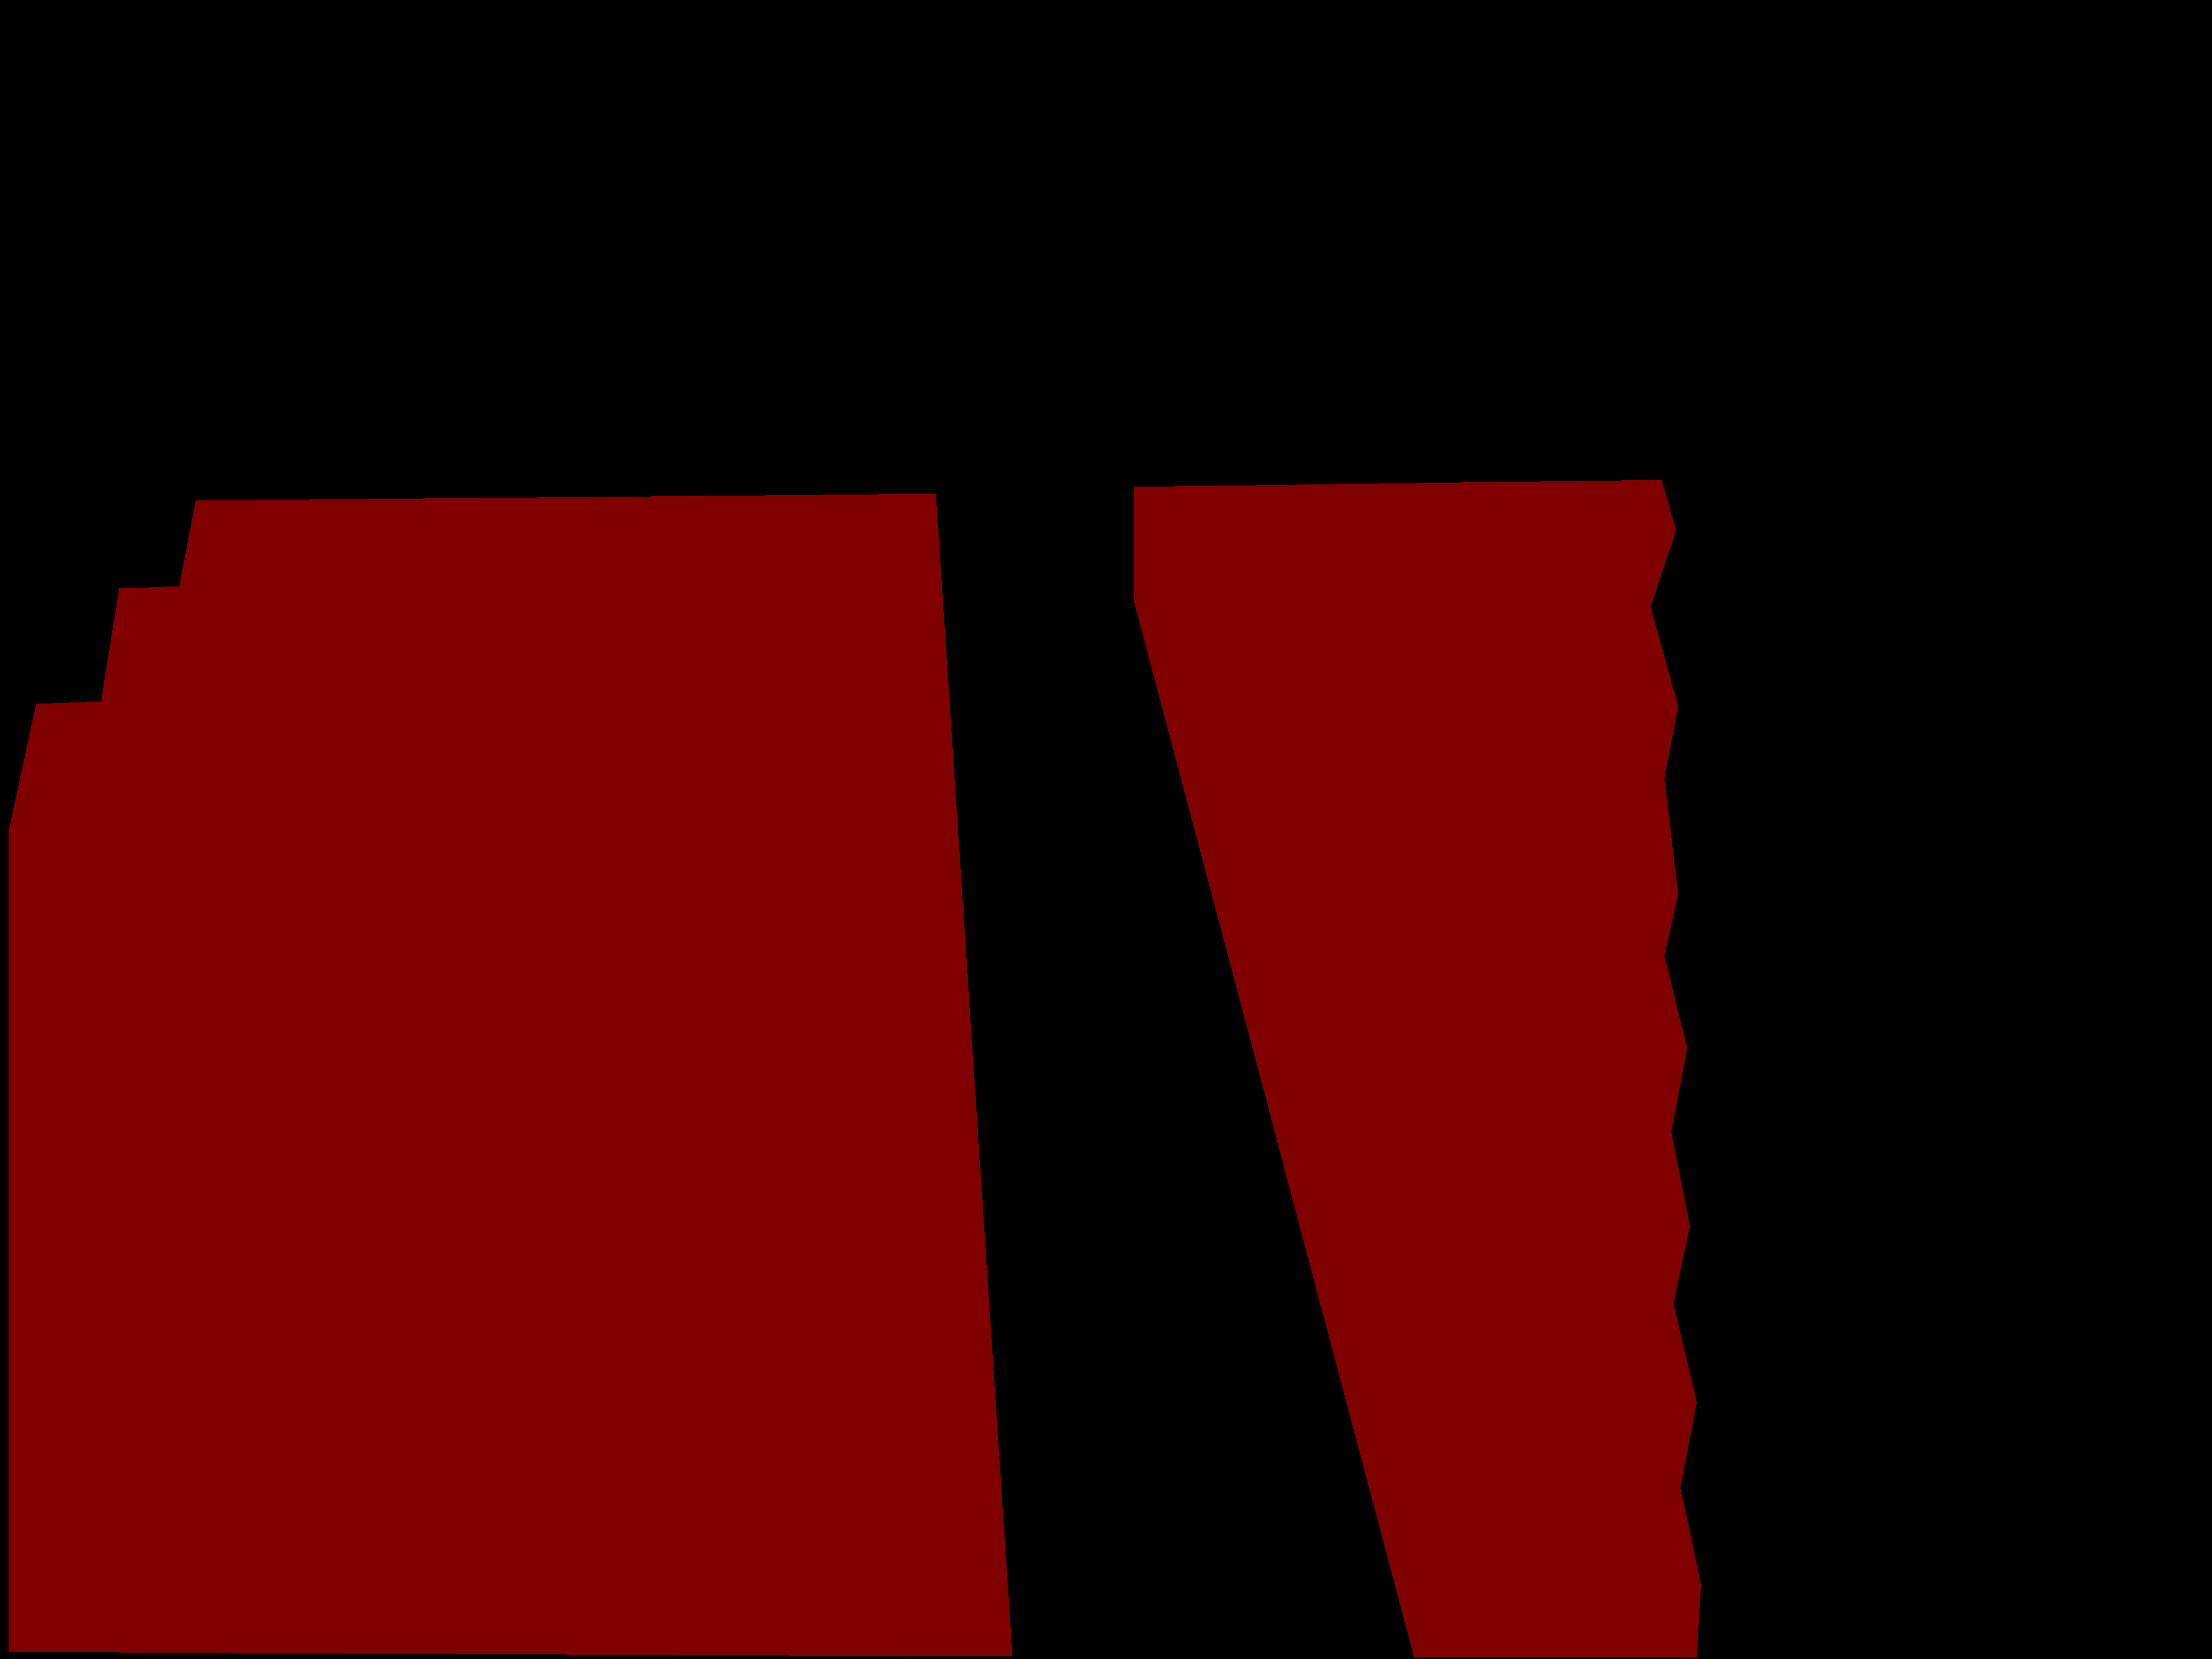stair: (9, 493, 1012, 1656), (1134, 479, 1700, 1656)
